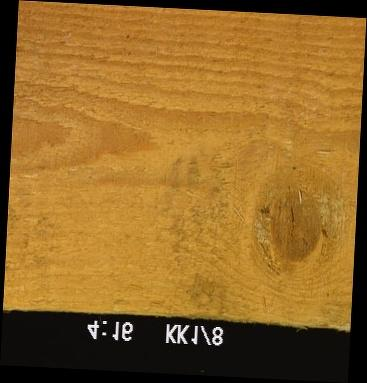sound_knot: (251, 182, 334, 277)
